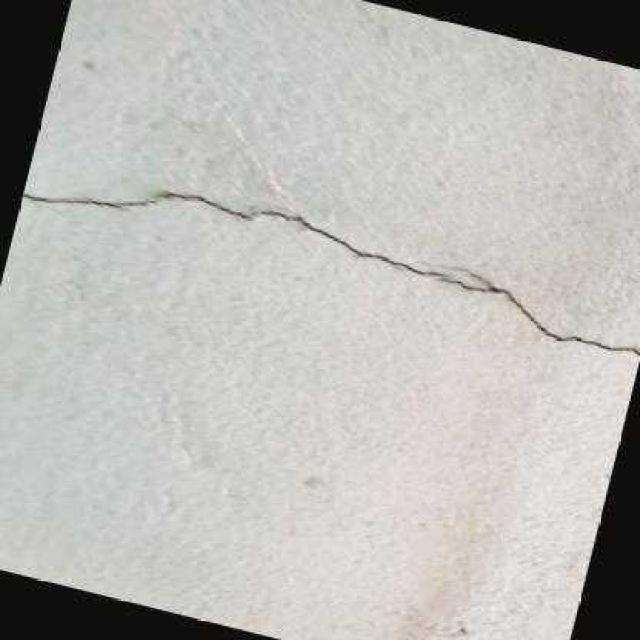D00: (21, 191, 640, 358)
